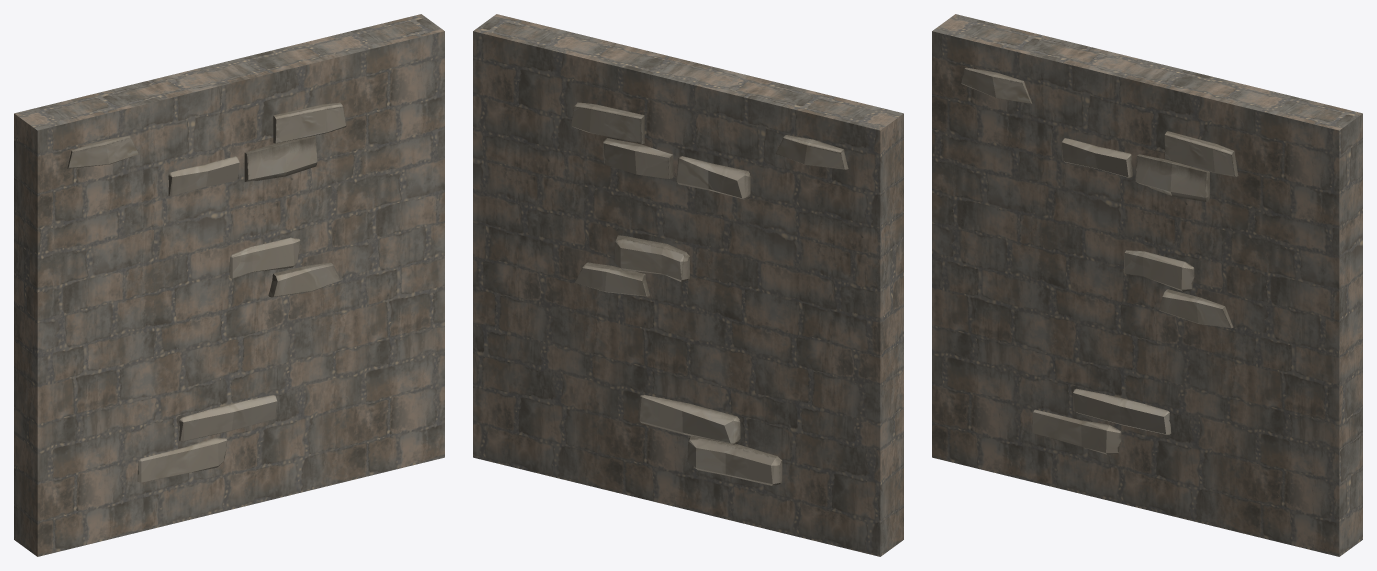
File: Wall1.fbx
The picture shows the model from 3 angles, left to right: view 1: azimuth 30°, elevation 25°; view 2: azimuth 150°, elevation 25°; view 3: azimuth 330°, elevation 25°; orthographic projection.
Visible parts, largest first — view 1: Wall1; view 2: Wall1; view 3: Wall1.
Boxes of the visible parts, box(x1,y1,x2,y2) form: Wall1: box(14, 14, 444, 556); Wall1: box(473, 14, 903, 556); Wall1: box(932, 14, 1362, 556).
Size of the model in its own units: 3 by 3 by 0.4688.
1 material, 1 textured.
